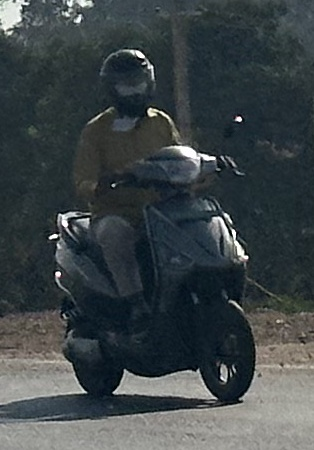BikeWithRider: (42, 41, 263, 407)
Helmet: (91, 42, 163, 117)
